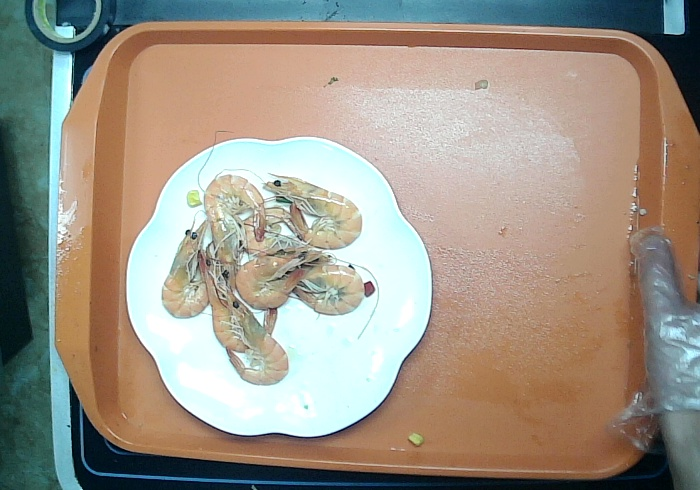HZYJPL-Bai_Se_Hua_Duo_Wan: (123, 124, 440, 447)
